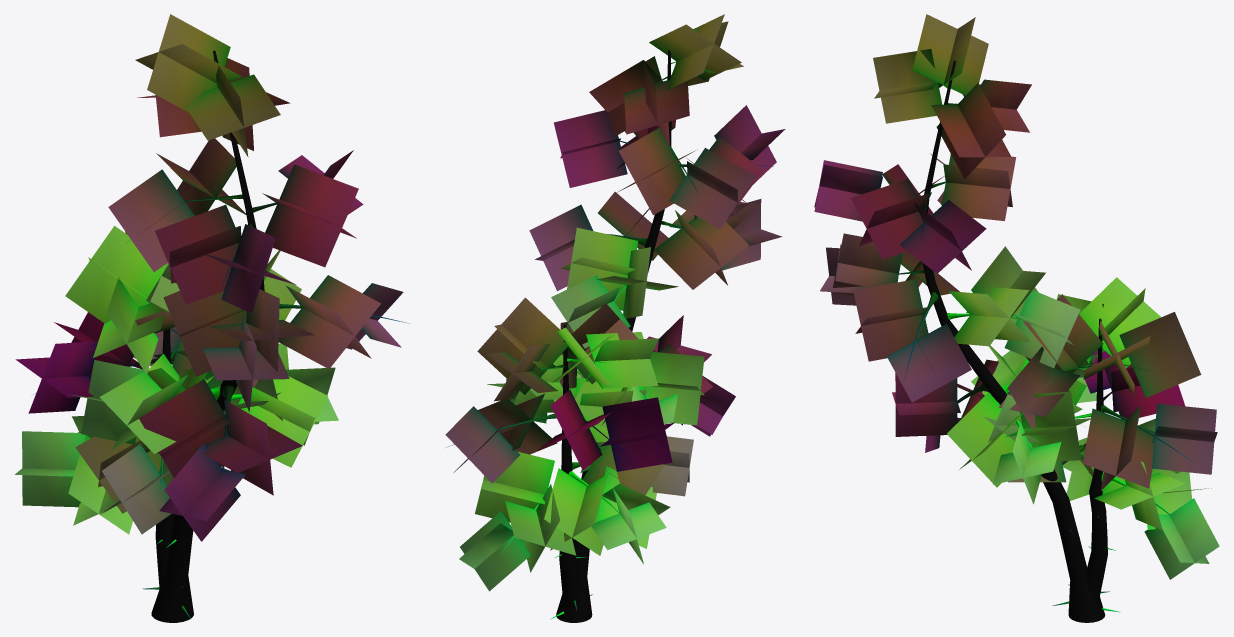
Rendered from URP_P7_Tree_9_LOD_1.fbx.
3 views of the same model, side by side, from view 1: azimuth 30°, elevation 25°; view 2: azimuth 150°, elevation 25°; view 3: azimuth 270°, elevation 25° (orthographic). The views are drawn at different scales.
Parts seen in each view (by area): view 1: Tree_9_LOD_1; view 2: Tree_9_LOD_1; view 3: Tree_9_LOD_1.
Boxes of the visible parts, <box> form: Tree_9_LOD_1: <box>15,14,409,622</box>; Tree_9_LOD_1: <box>445,14,785,622</box>; Tree_9_LOD_1: <box>814,14,1219,622</box>.
Bounding box in the file's own units: 249 × 574 × 370.
